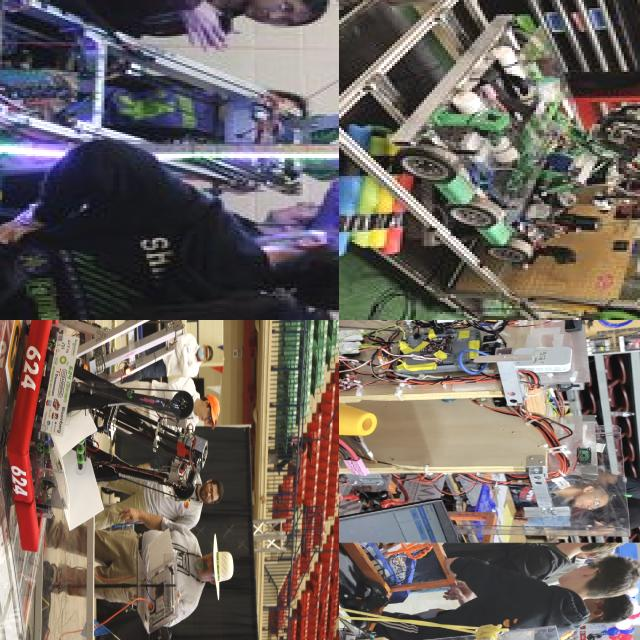FRC-Robots: (0, 0, 339, 219), (339, 320, 640, 540), (402, 33, 640, 305), (0, 320, 208, 560)
